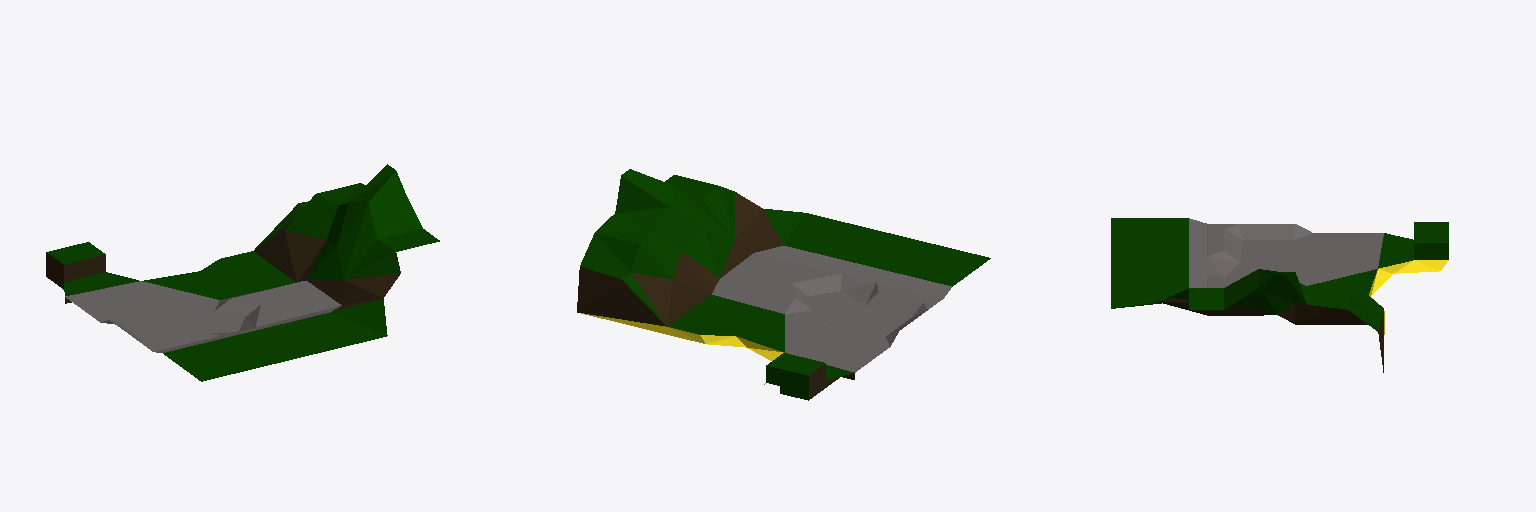
Rendered from ParHarbor-terrain-AF.obj.
3 renders of one model, left to right at view 1: azimuth 30°, elevation 25°; view 2: azimuth 150°, elevation 25°; view 3: azimuth 270°, elevation 25°, orthographic.
Parts seen in each view (by area): view 1: ParHarbor_terrain_0; view 2: ParHarbor_terrain_0; view 3: ParHarbor_terrain_0.
Boxes of the visible parts, x1=… form: ParHarbor_terrain_0: x1=46, y1=164, x2=439, y2=381; ParHarbor_terrain_0: x1=577, y1=169, x2=990, y2=400; ParHarbor_terrain_0: x1=1111, y1=218, x2=1448, y2=372.
Size of the model in its own units: 111 by 40 by 117.